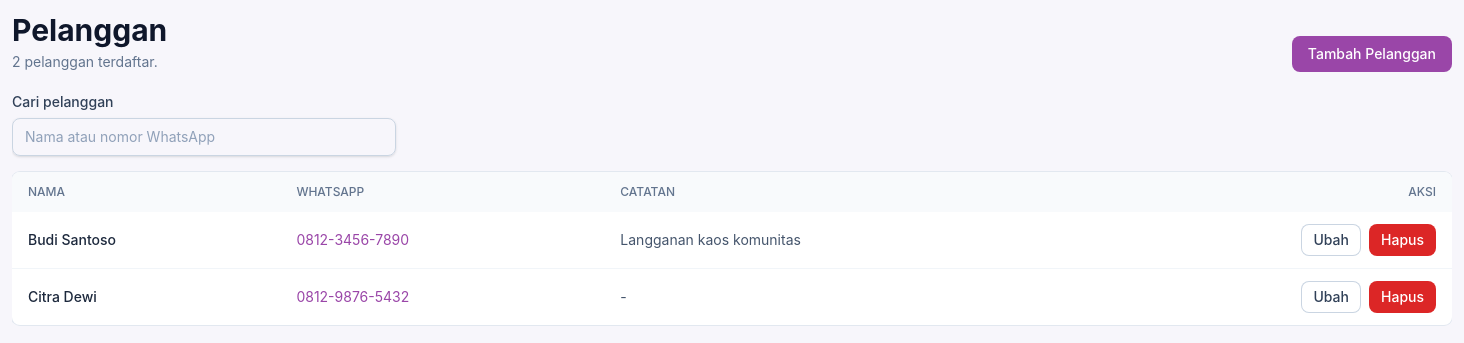
CustomerListPage › menampilkan pesan kosong kalau pencarian tidak menemukan apa pun
The width and height of the screenshot is (1464, 343).
Expected: the text "Budi Santoso" is shown, [12, 212, 280, 268]
Type "zzz" into the search field labelled "Cari pelanggan". click: (204, 137)
box: [12, 118, 396, 156]
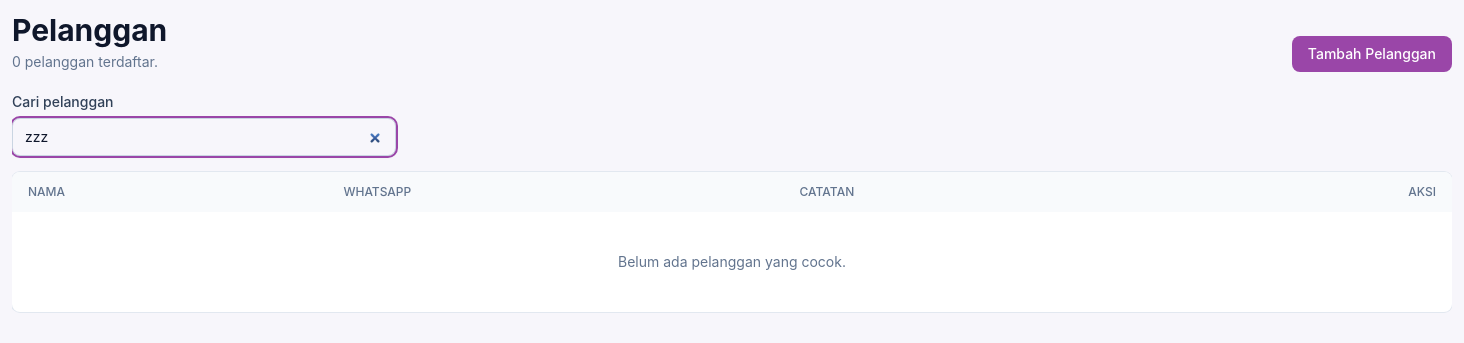
Expected: the text "Belum ada pelanggan yang cocok." is shown, [12, 212, 1452, 312]
